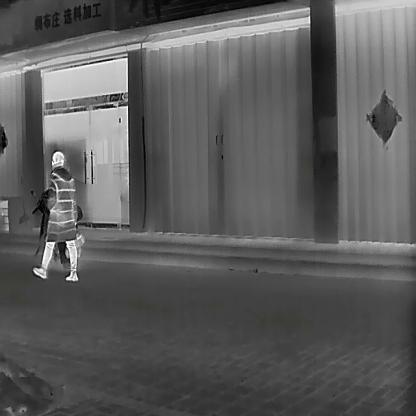car: (32, 151, 78, 281)
